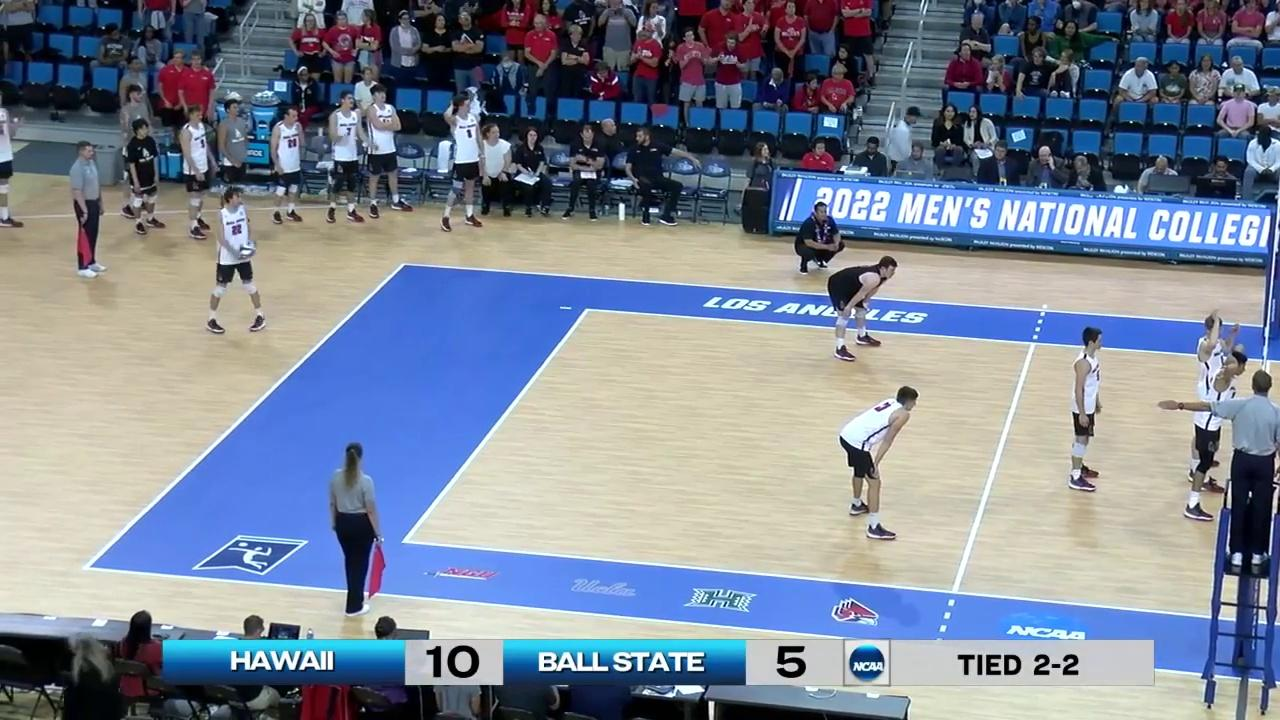player: (834, 388, 921, 541), (1182, 349, 1247, 521), (204, 187, 268, 332), (823, 255, 898, 359), (1066, 327, 1108, 491), (1195, 313, 1229, 462)
refree: (1223, 370, 1280, 589), (326, 446, 382, 614), (63, 142, 103, 277)
